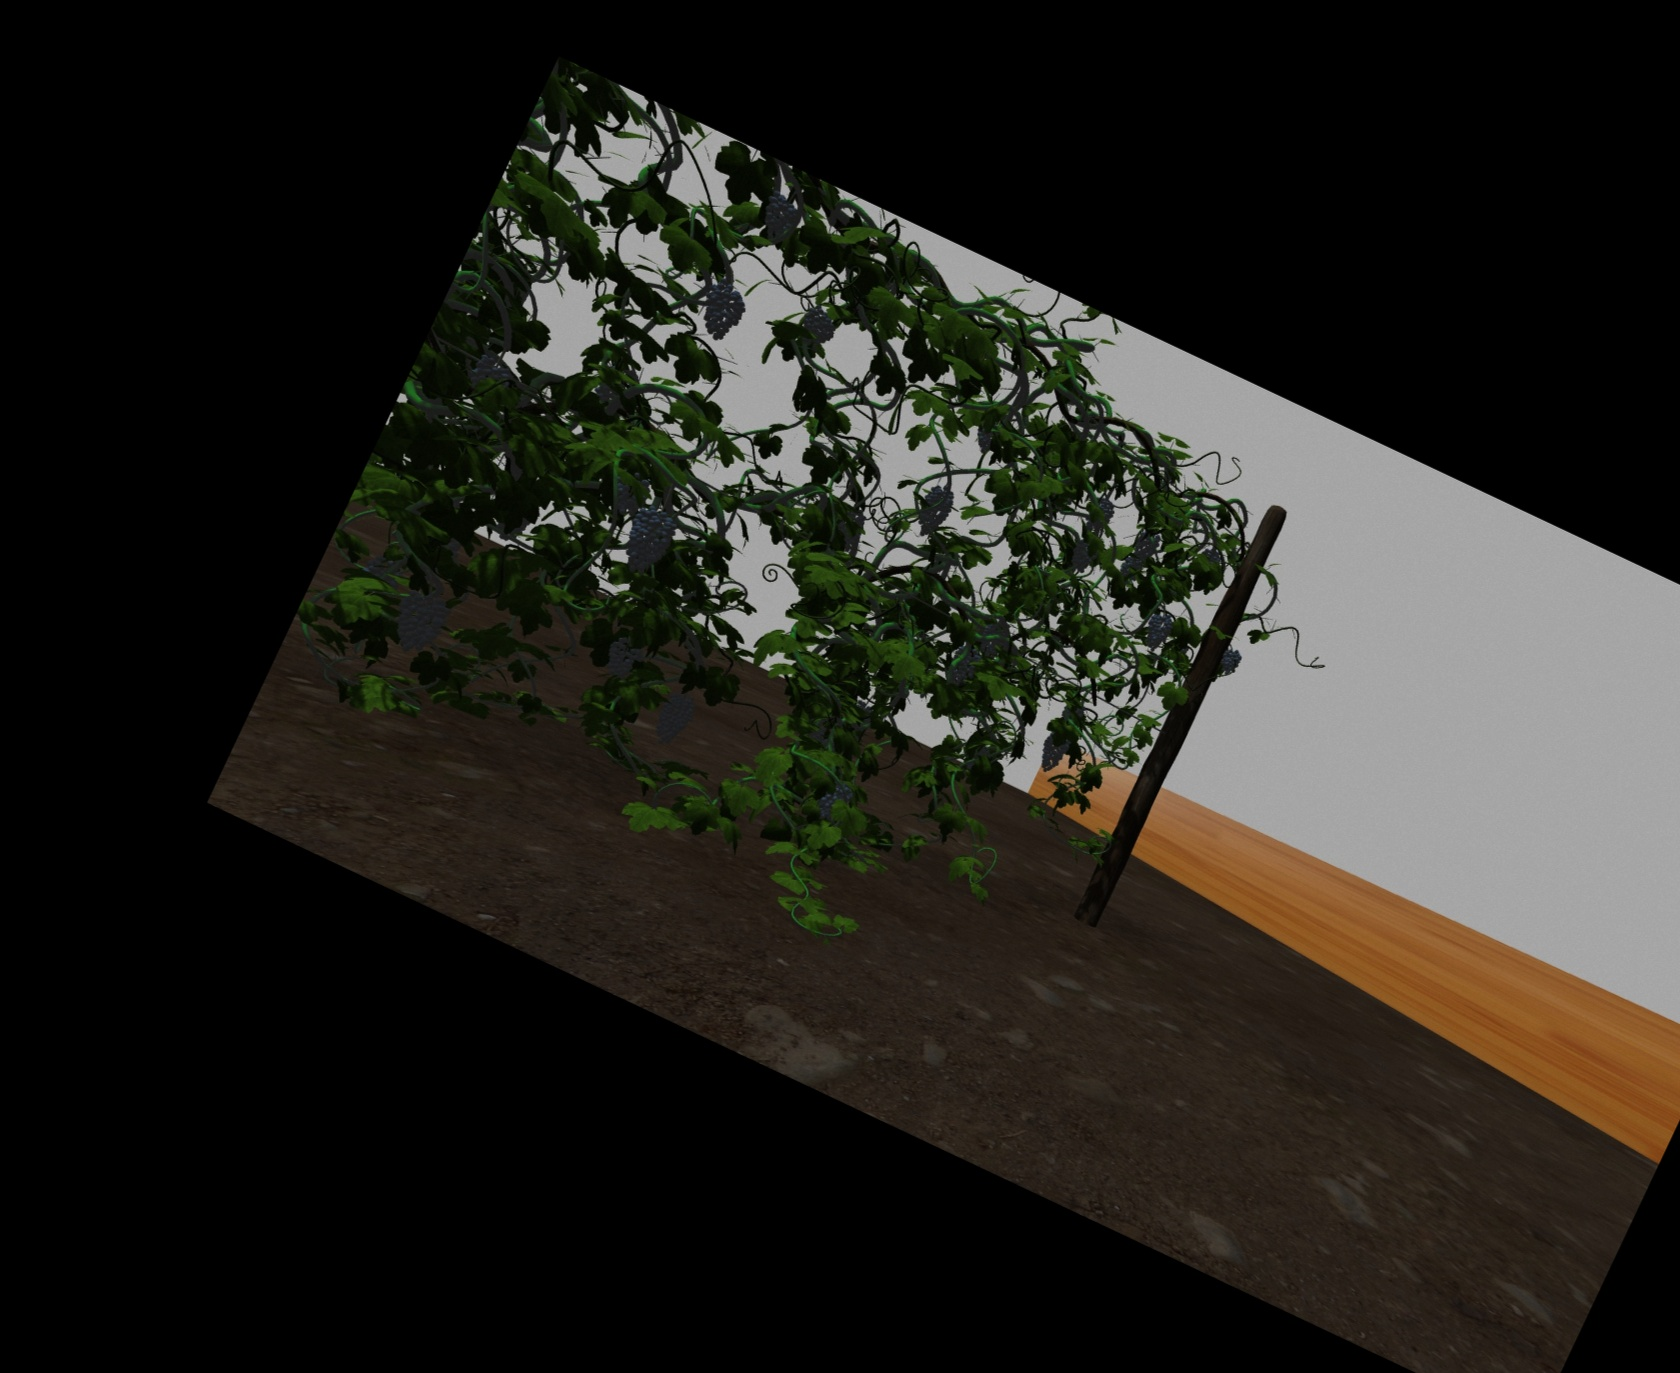grape: (395, 587, 442, 649), (627, 511, 668, 575), (702, 283, 741, 338), (653, 691, 689, 742), (917, 486, 947, 534), (606, 638, 639, 680), (613, 470, 646, 512), (762, 195, 794, 237), (801, 310, 836, 340), (472, 357, 504, 389), (950, 647, 977, 684), (1041, 733, 1065, 772), (1087, 495, 1111, 533), (820, 784, 846, 819), (1146, 613, 1168, 649), (981, 622, 1003, 656), (1072, 541, 1093, 571), (1136, 532, 1155, 560), (1120, 555, 1140, 578), (1222, 649, 1239, 673)
